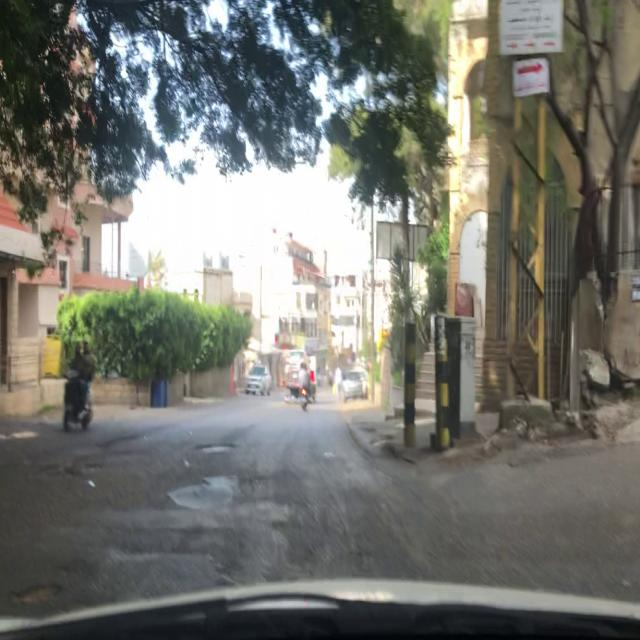Pothole: (9, 581, 64, 616), (192, 441, 238, 455)
